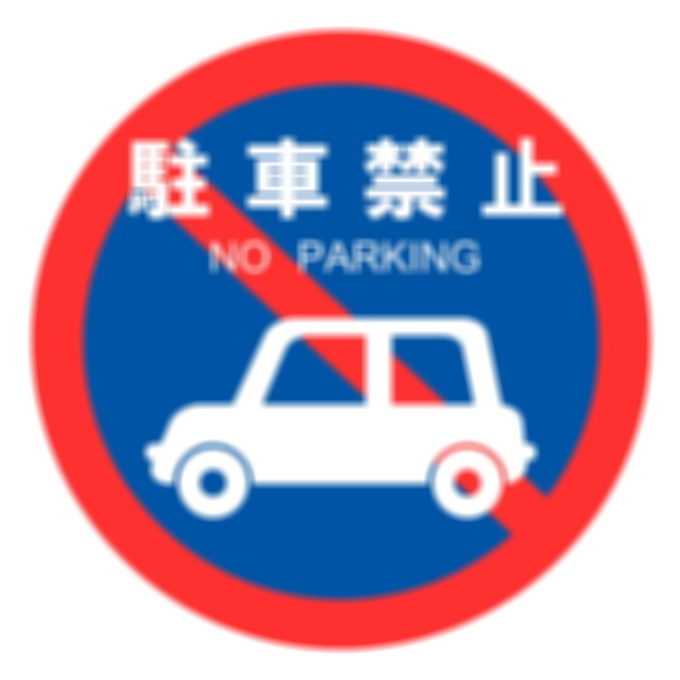Prohibition_sign: (16, 15, 658, 666)
